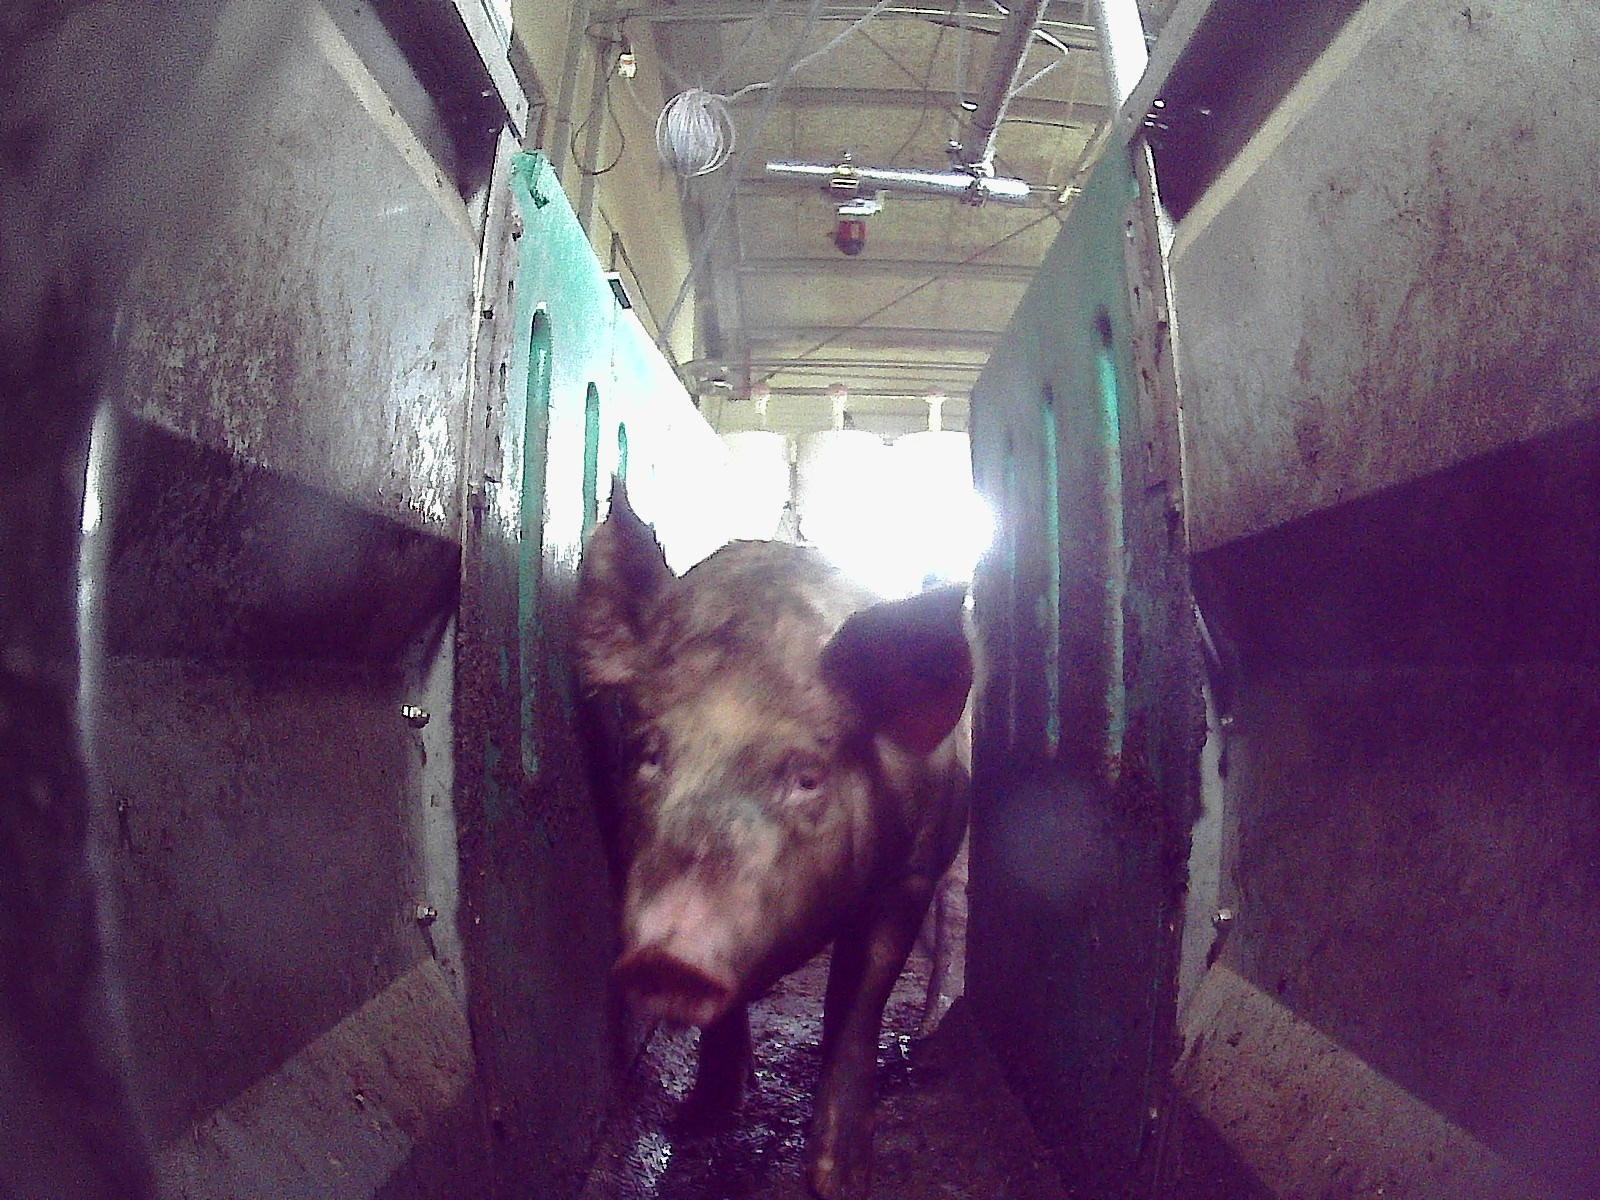Face: (613, 635, 867, 1023)
